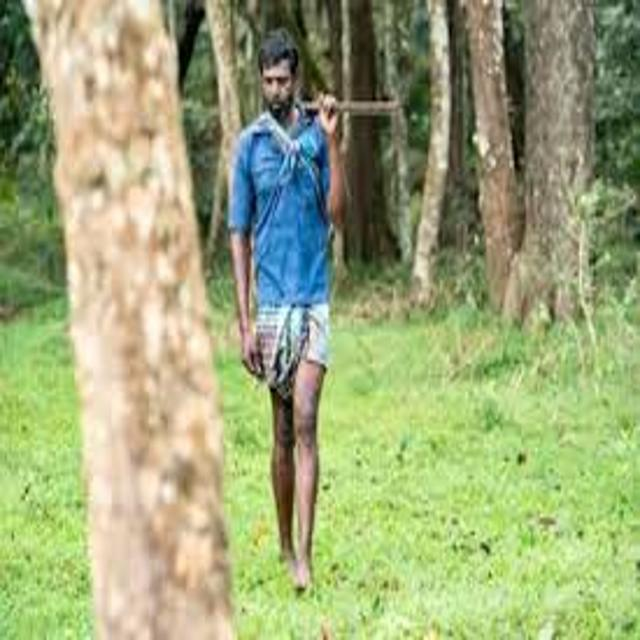poacher: (180, 16, 418, 623)
